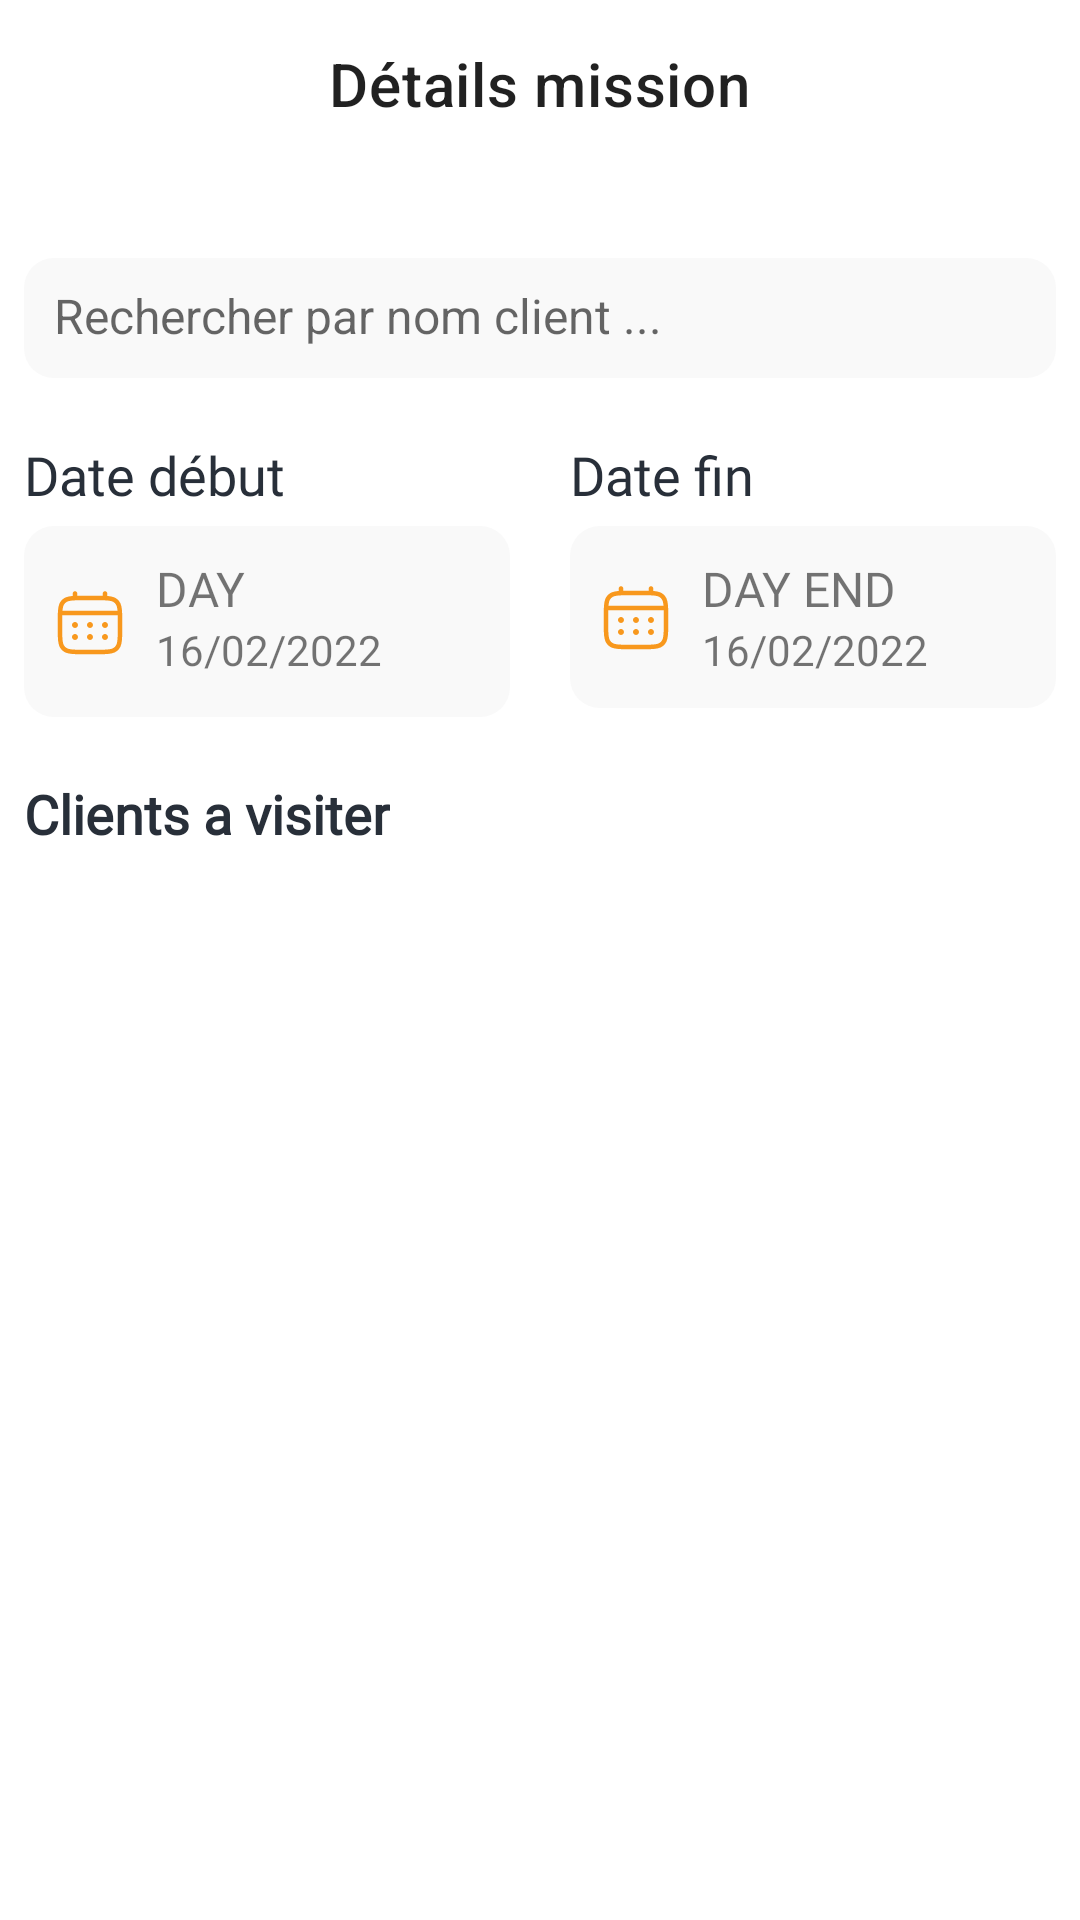

Where to tap for icons on this 1080 × 1920 app screen, as (x,y):
cal: (636,618), (90,623)
